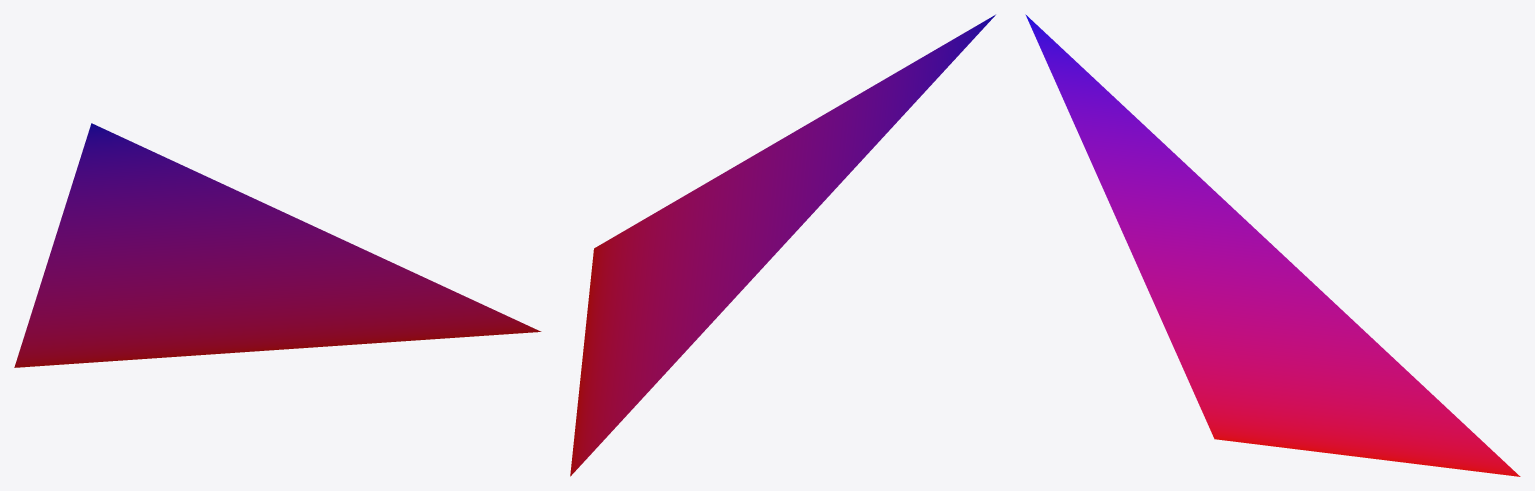
Rendered from border_patch_9.obj.
3 views of the same model, side by side, from view 1: azimuth 30°, elevation 25°; view 2: azimuth 150°, elevation 25°; view 3: azimuth 270°, elevation 25° (orthographic). The views are drawn at different scales.
Size of the model in its own units: 0.6677 by 0.691 by 0.8569.
